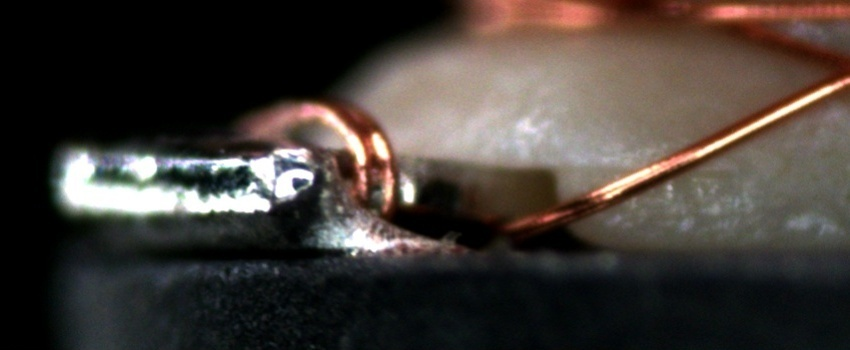CL: (804, 39, 848, 103)
DL: (565, 135, 734, 194)
TE: (223, 89, 407, 228)
